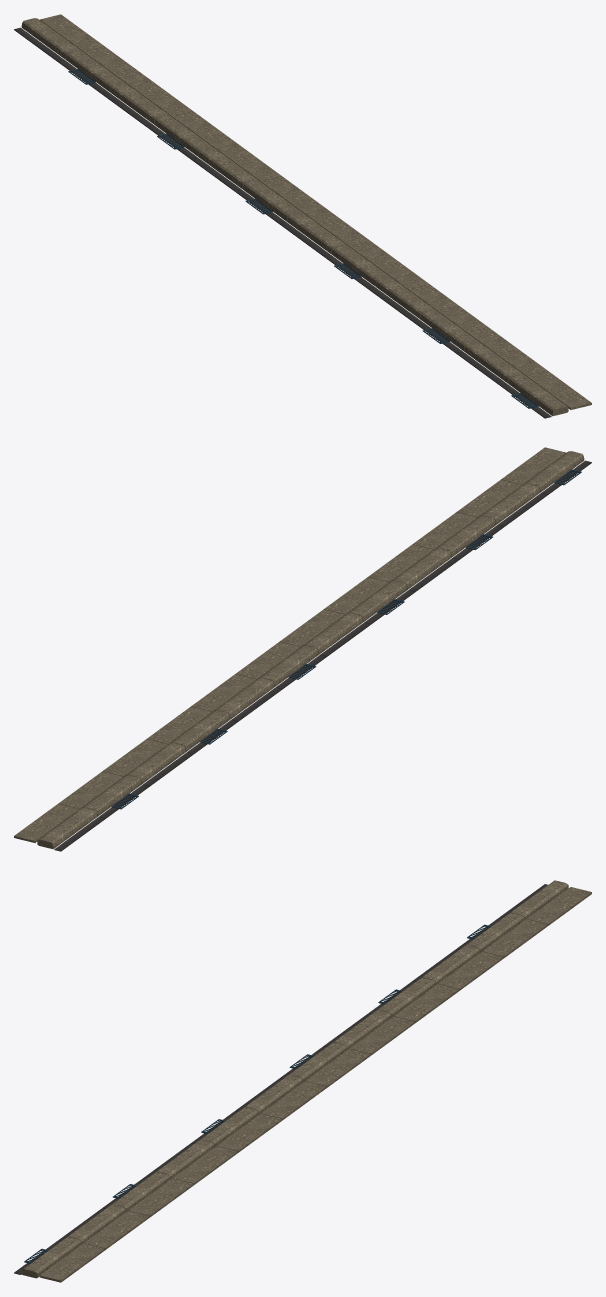
File: central_curb_outer_plus.gltf
3 views of the same model, one above another, from view 1: azimuth 30°, elevation 25°; view 2: azimuth 150°, elevation 25°; view 3: azimuth 330°, elevation 25° (orthographic).
Visible parts, largest first — view 1: RealPhotoPBRStreetCurb_outer_plus; view 2: RealPhotoPBRStreetCurb_outer_plus; view 3: RealPhotoPBRStreetCurb_outer_plus.
Part boxes in pixels (x1,y1,x2,y2): RealPhotoPBRStreetCurb_outer_plus: (14,14,591,418); RealPhotoPBRStreetCurb_outer_plus: (14,447,591,851); RealPhotoPBRStreetCurb_outer_plus: (14,880,591,1282).
Bounding box in the file's own units: 1.96 × 0.259 × 35.98.
Materials: 3 (3 with a texture image).
